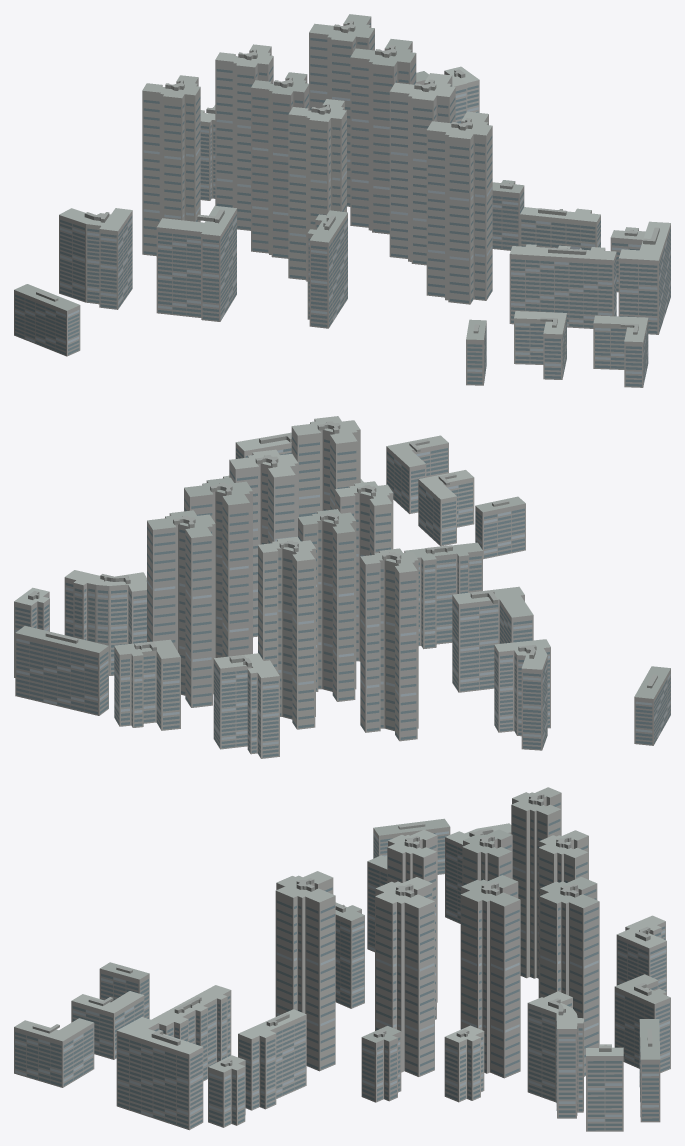
File: apt-a10025638.glb
The picture shows the model from 3 angles, top to bottom: view 1: azimuth 30°, elevation 25°; view 2: azimuth 150°, elevation 25°; view 3: azimuth 270°, elevation 25°; orthographic projection. The views are drawn at different scales.
Parts seen in each view (by area): view 1: apt-a10025638; view 2: apt-a10025638; view 3: apt-a10025638.
Boxes of the visible parts, bbox=[...] form: apt-a10025638: bbox=[14, 14, 670, 387]; apt-a10025638: bbox=[14, 416, 670, 758]; apt-a10025638: bbox=[14, 787, 670, 1131].
Size of the model in its own units: 374 by 115 by 390.
